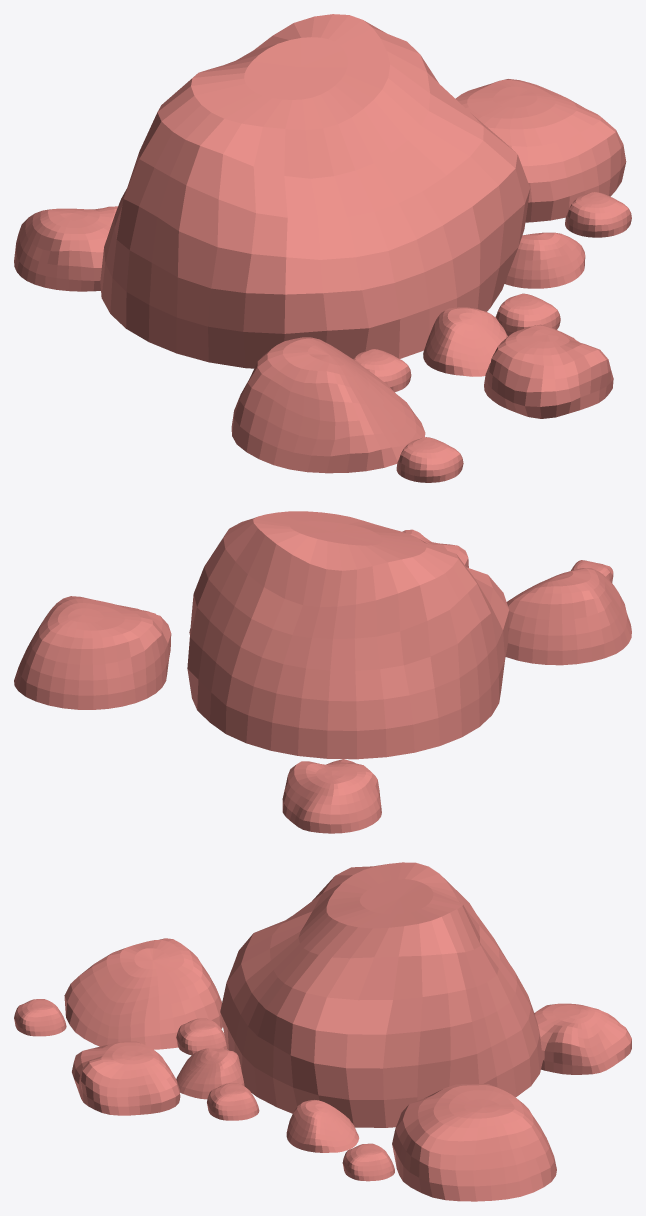
File: rocks1.glb
3 views of the same model, one above another, from view 1: azimuth 30°, elevation 25°; view 2: azimuth 150°, elevation 25°; view 3: azimuth 270°, elevation 25° (orthographic). The views are drawn at different scales.
Parts seen in each view (by area): view 1: Cube, Cube.002, Cube.001, Cube.003, Cube.004, Cube.006, Cube.005, Cube.009, Cube.010, Cube.007, Cube.008; view 2: Cube, Cube.001, Cube.002, Cube.004, Cube.003; view 3: Cube, Cube.001, Cube.002, Cube.003, Cube.004, Cube.005, Cube.006, Cube.007, Cube.009, Cube.010, Cube.008.
Part boxes in pixels (<box>): Cube: <box>100,14,530,368</box>; Cube.002: <box>231,337,425,473</box>; Cube.001: <box>455,79,626,222</box>; Cube.003: <box>484,324,613,418</box>; Cube.004: <box>14,206,117,291</box>; Cube.006: <box>423,307,507,376</box>; Cube.005: <box>504,232,585,288</box>; Cube.009: <box>396,437,463,482</box>; Cube.010: <box>565,192,631,237</box>; Cube.007: <box>495,293,560,336</box>; Cube.008: <box>353,349,411,391</box>; Cube: <box>187,511,509,759</box>; Cube.001: <box>14,596,171,709</box>; Cube.002: <box>505,568,631,665</box>; Cube.004: <box>282,759,381,833</box>; Cube.003: <box>402,529,468,567</box>; Cube: <box>220,862,542,1127</box>; Cube.001: <box>392,1084,556,1201</box>; Cube.002: <box>64,938,222,1049</box>; Cube.003: <box>72,1041,180,1115</box>; Cube.004: <box>534,1003,631,1074</box>; Cube.005: <box>286,1100,359,1152</box>; Cube.006: <box>176,1048,244,1099</box>; Cube.007: <box>207,1083,259,1120</box>; Cube.009: <box>14,999,66,1036</box>; Cube.010: <box>342,1143,394,1181</box>; Cube.008: <box>176,1018,227,1055</box>.
Size of the model in its own units: 5.56 by 2.51 by 6.69.
